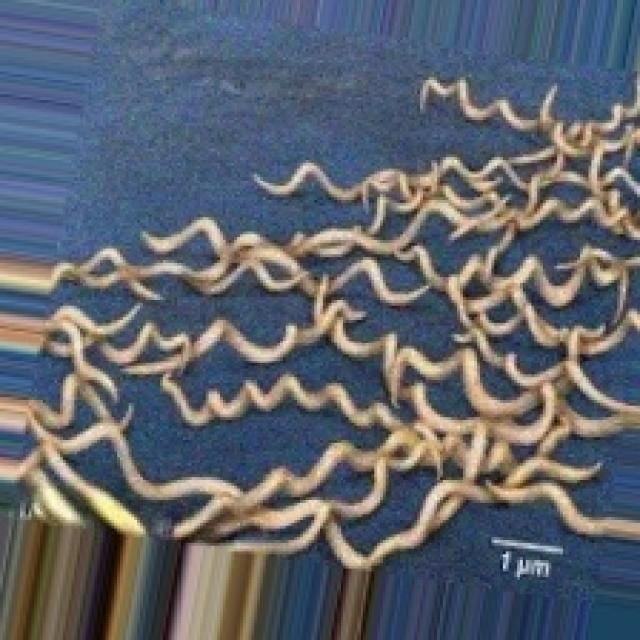Spiral_bacteria: (12, 52, 637, 574)
